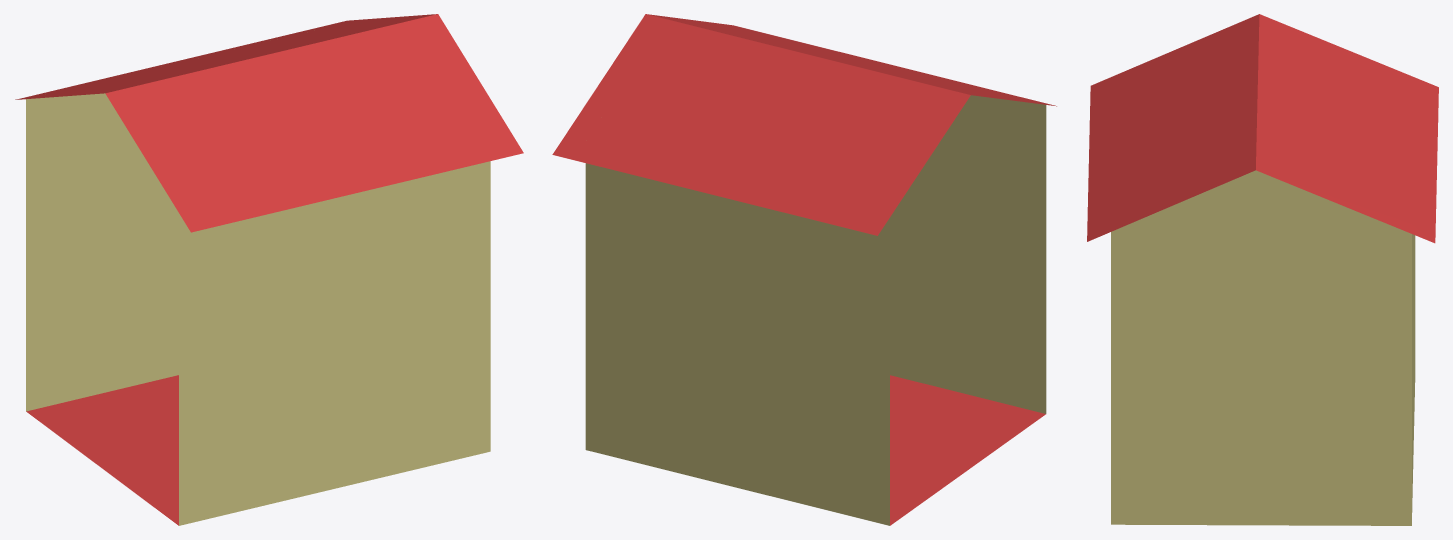
The picture shows the model from 3 angles, left to right: view 1: azimuth 30°, elevation 25°; view 2: azimuth 150°, elevation 25°; view 3: azimuth 270°, elevation 25°; orthographic projection. The views are drawn at different scales.
Bounding box in the file's own units: 7.86 × 7.41 × 8.48.
